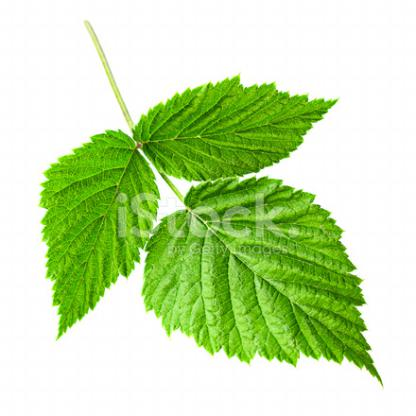Raspberry leaf: (141, 169, 383, 384), (32, 120, 157, 341), (131, 72, 342, 179)
